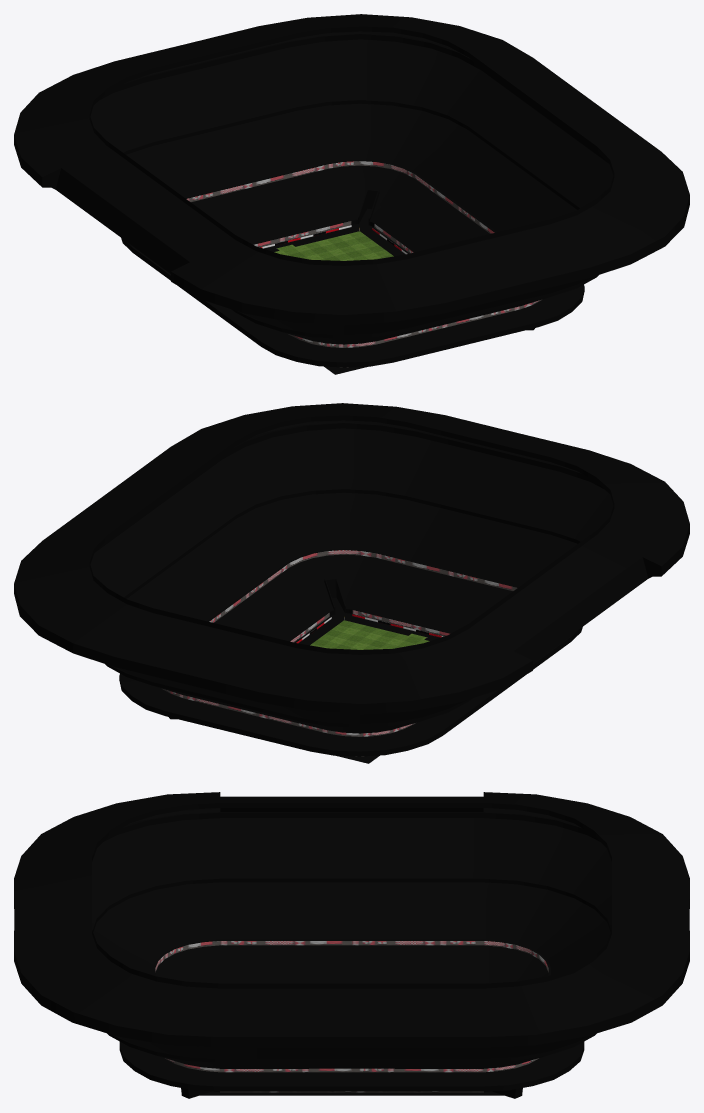
The model's file is st_060_stadium.fbx.
The picture shows the model from 3 angles, top to bottom: view 1: azimuth 30°, elevation 25°; view 2: azimuth 150°, elevation 25°; view 3: azimuth 270°, elevation 25°; orthographic projection. The views are drawn at different scales.
Visible parts, largest first — view 1: st_060_Stadium; view 2: st_060_Stadium; view 3: st_060_Stadium.
Part boxes in pixels (bbox=[...]): st_060_Stadium: bbox=[14, 14, 689, 374]; st_060_Stadium: bbox=[14, 403, 689, 763]; st_060_Stadium: bbox=[14, 792, 689, 1098].
Size of the model in its own units: 231 by 68.43 by 269.
